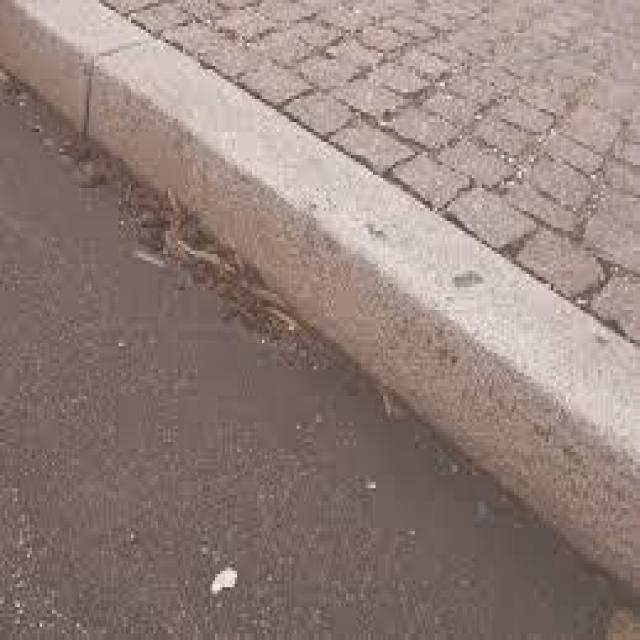curb: (336, 172, 511, 446), (202, 76, 388, 331), (495, 342, 640, 619), (2, 8, 174, 174)
